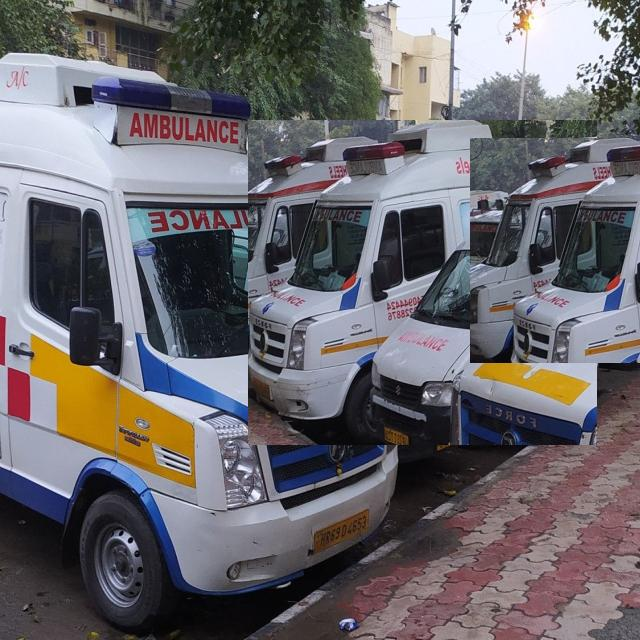emergency: (0, 53, 398, 632), (249, 120, 597, 445), (300, 190, 475, 462), (470, 139, 640, 363)
